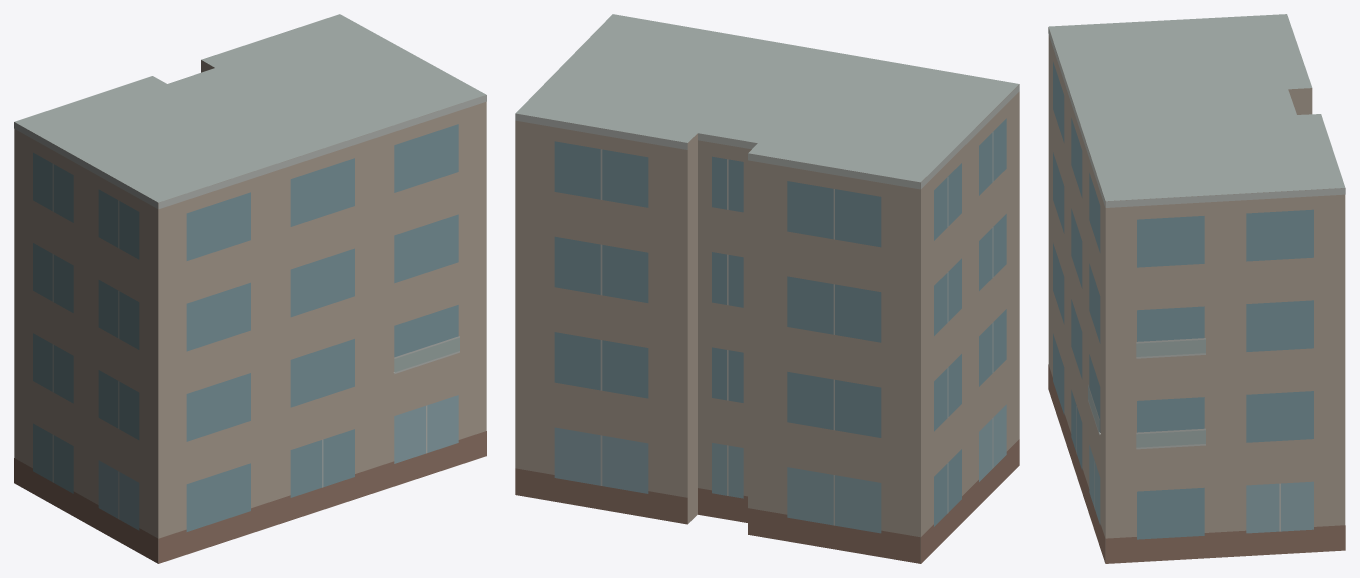
Rendered from survey-upis-33031065.glb.
3 renders of one model, left to right at view 1: azimuth 30°, elevation 25°; view 2: azimuth 150°, elevation 25°; view 3: azimuth 270°, elevation 25°, orthographic. The views are drawn at different scales.
Parts seen in each view (by area): view 1: survey-upis-33031065.tmp; view 2: survey-upis-33031065.tmp; view 3: survey-upis-33031065.tmp.
Part boxes in pixels (x1,y1,x2,y2): survey-upis-33031065.tmp: [14, 14, 486, 563]; survey-upis-33031065.tmp: [515, 14, 1019, 563]; survey-upis-33031065.tmp: [1048, 14, 1345, 563].
Size of the model in its own units: 14.44 by 13.03 by 9.69.
